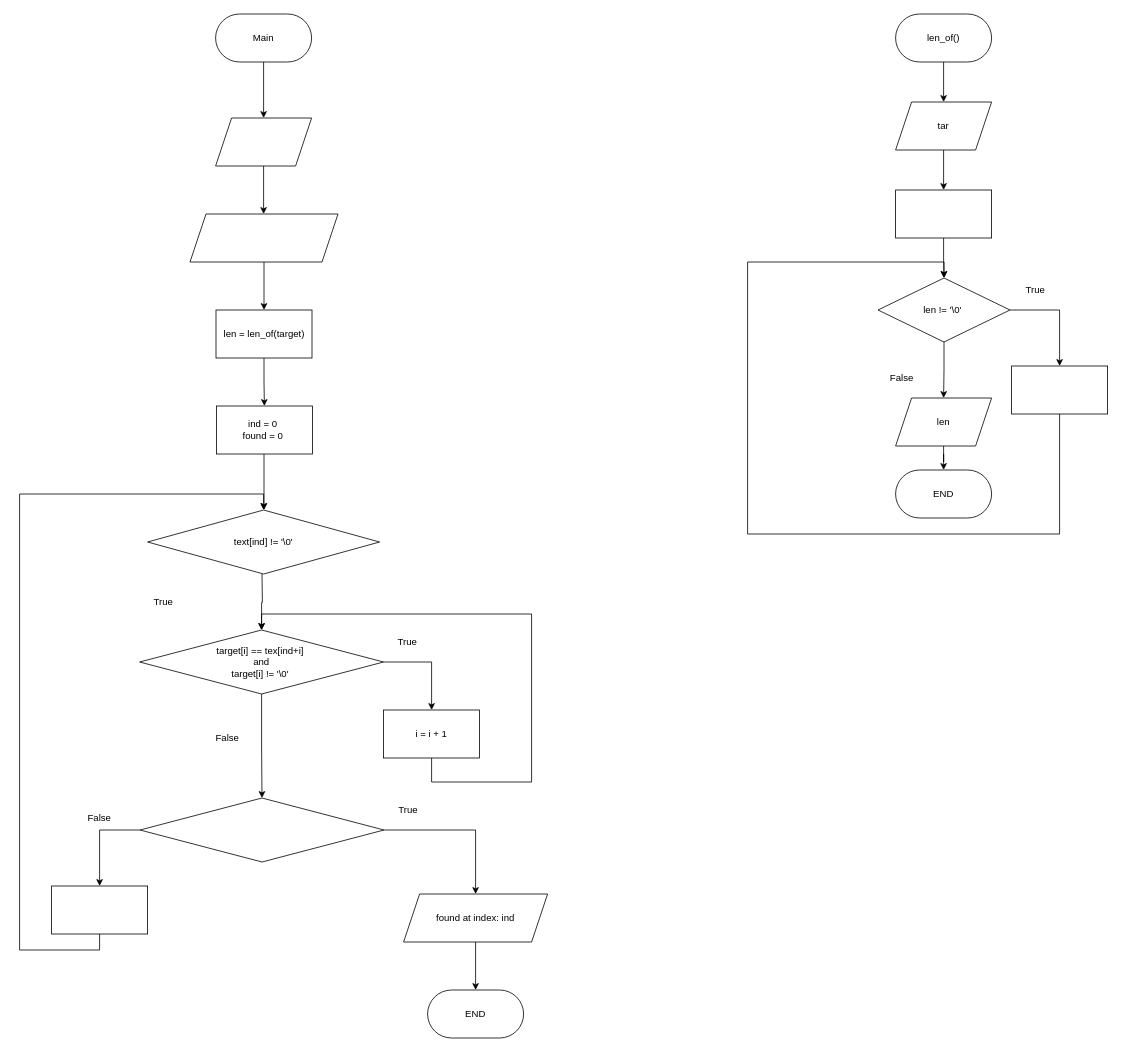
This 1122x1052 diagram has some shape labels left out. Each missing label, with the box of its shape:
i == len: (139, 797, 384, 862)
ind = ind + 1: (51, 885, 148, 934)
len = 0: (895, 189, 992, 238)
len = len + 1: (1011, 365, 1108, 414)
Target word: target: (189, 213, 338, 262)
text, target: (215, 117, 312, 166)
